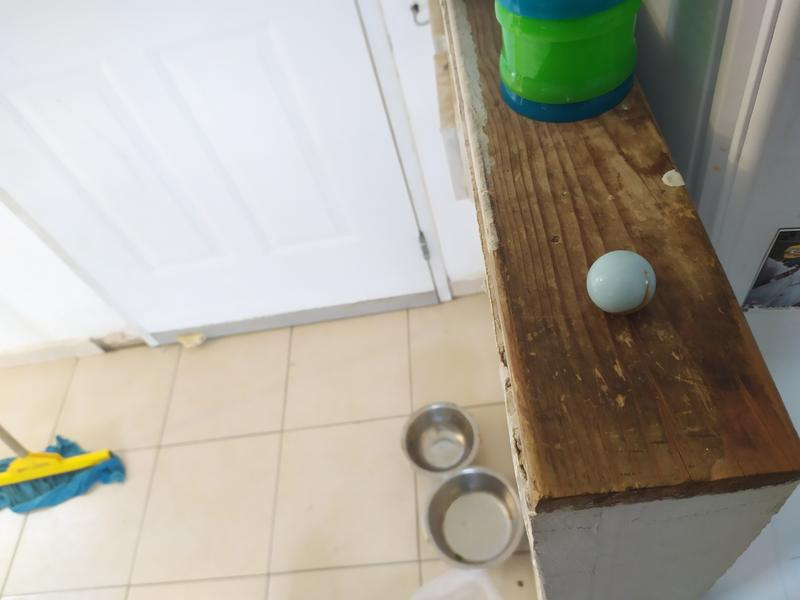Warning: (584, 248, 659, 318)
